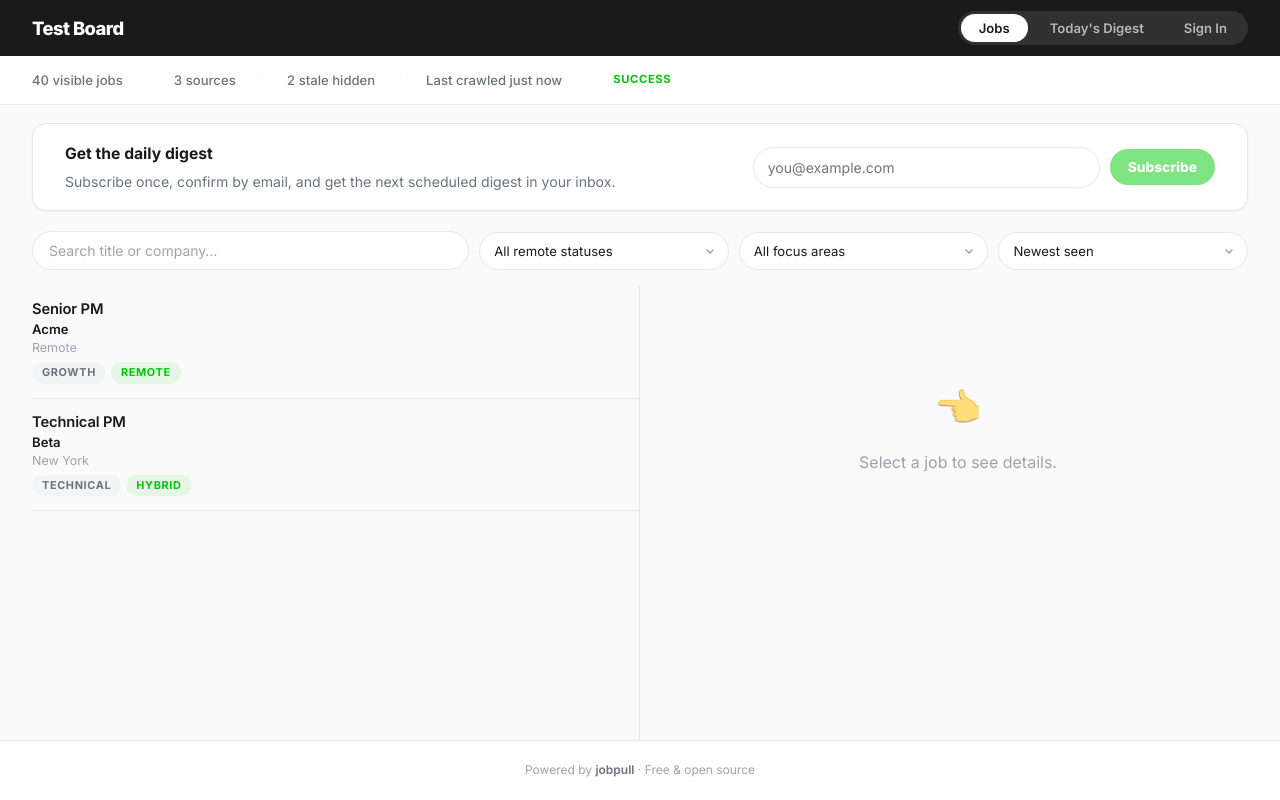
App › submits the public daily digest signup form
Expected: the text "Senior PM" is shown, [32,300,103,318]
Step 1. Type "reader@example.com" into the field named "email address" → {"x": 926, "y": 167}, box [753,147,1100,188]
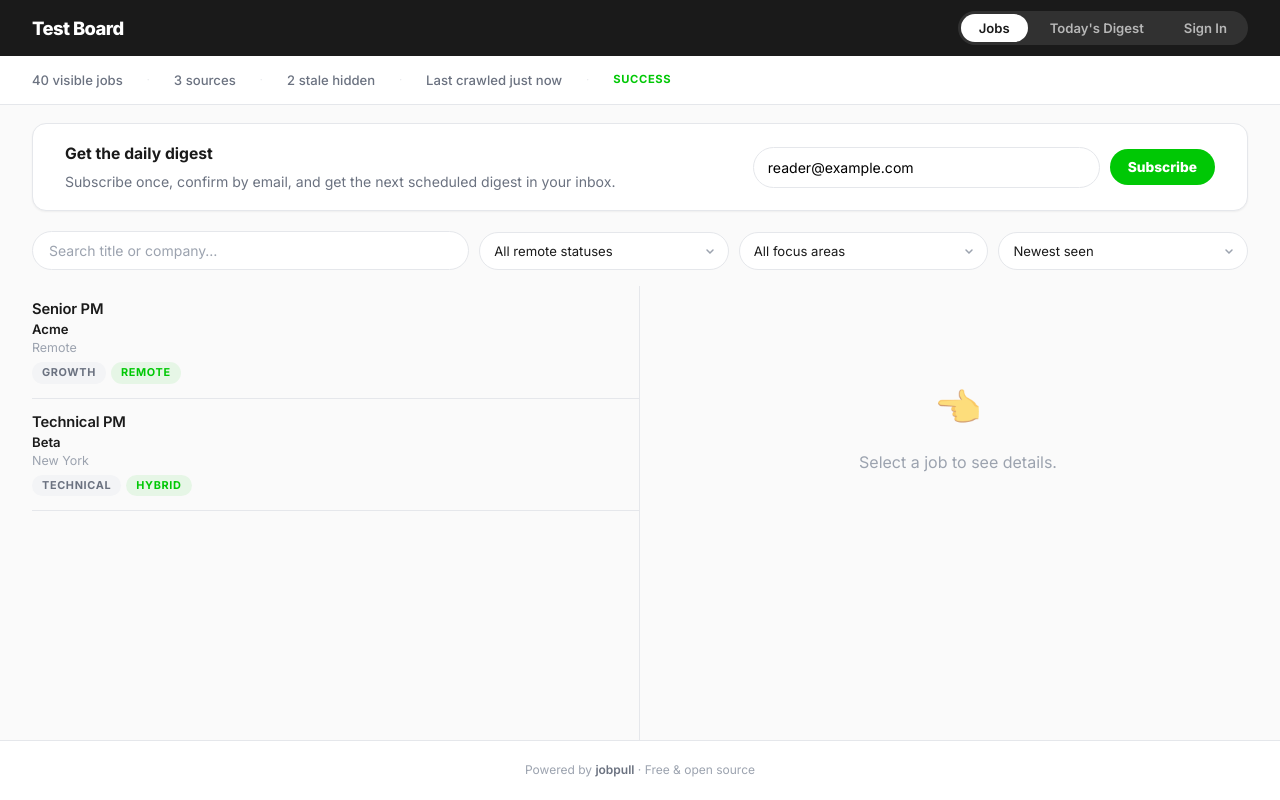
Step 2. Click the button "Subscribe" → {"x": 1162, "y": 167}, box [1110,149,1215,185]
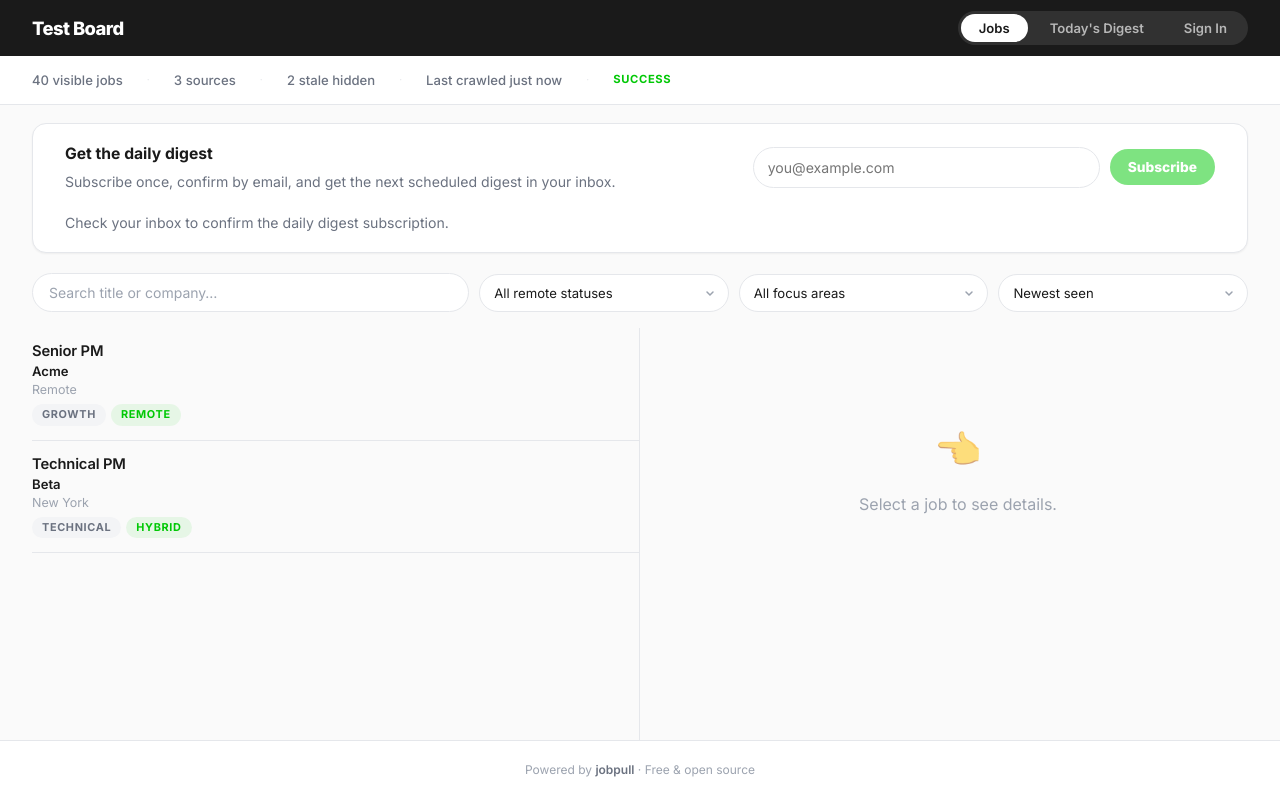
Now the text "Check your inbox to confirm the daily digest subscription." is shown, box [65,214,449,232]
